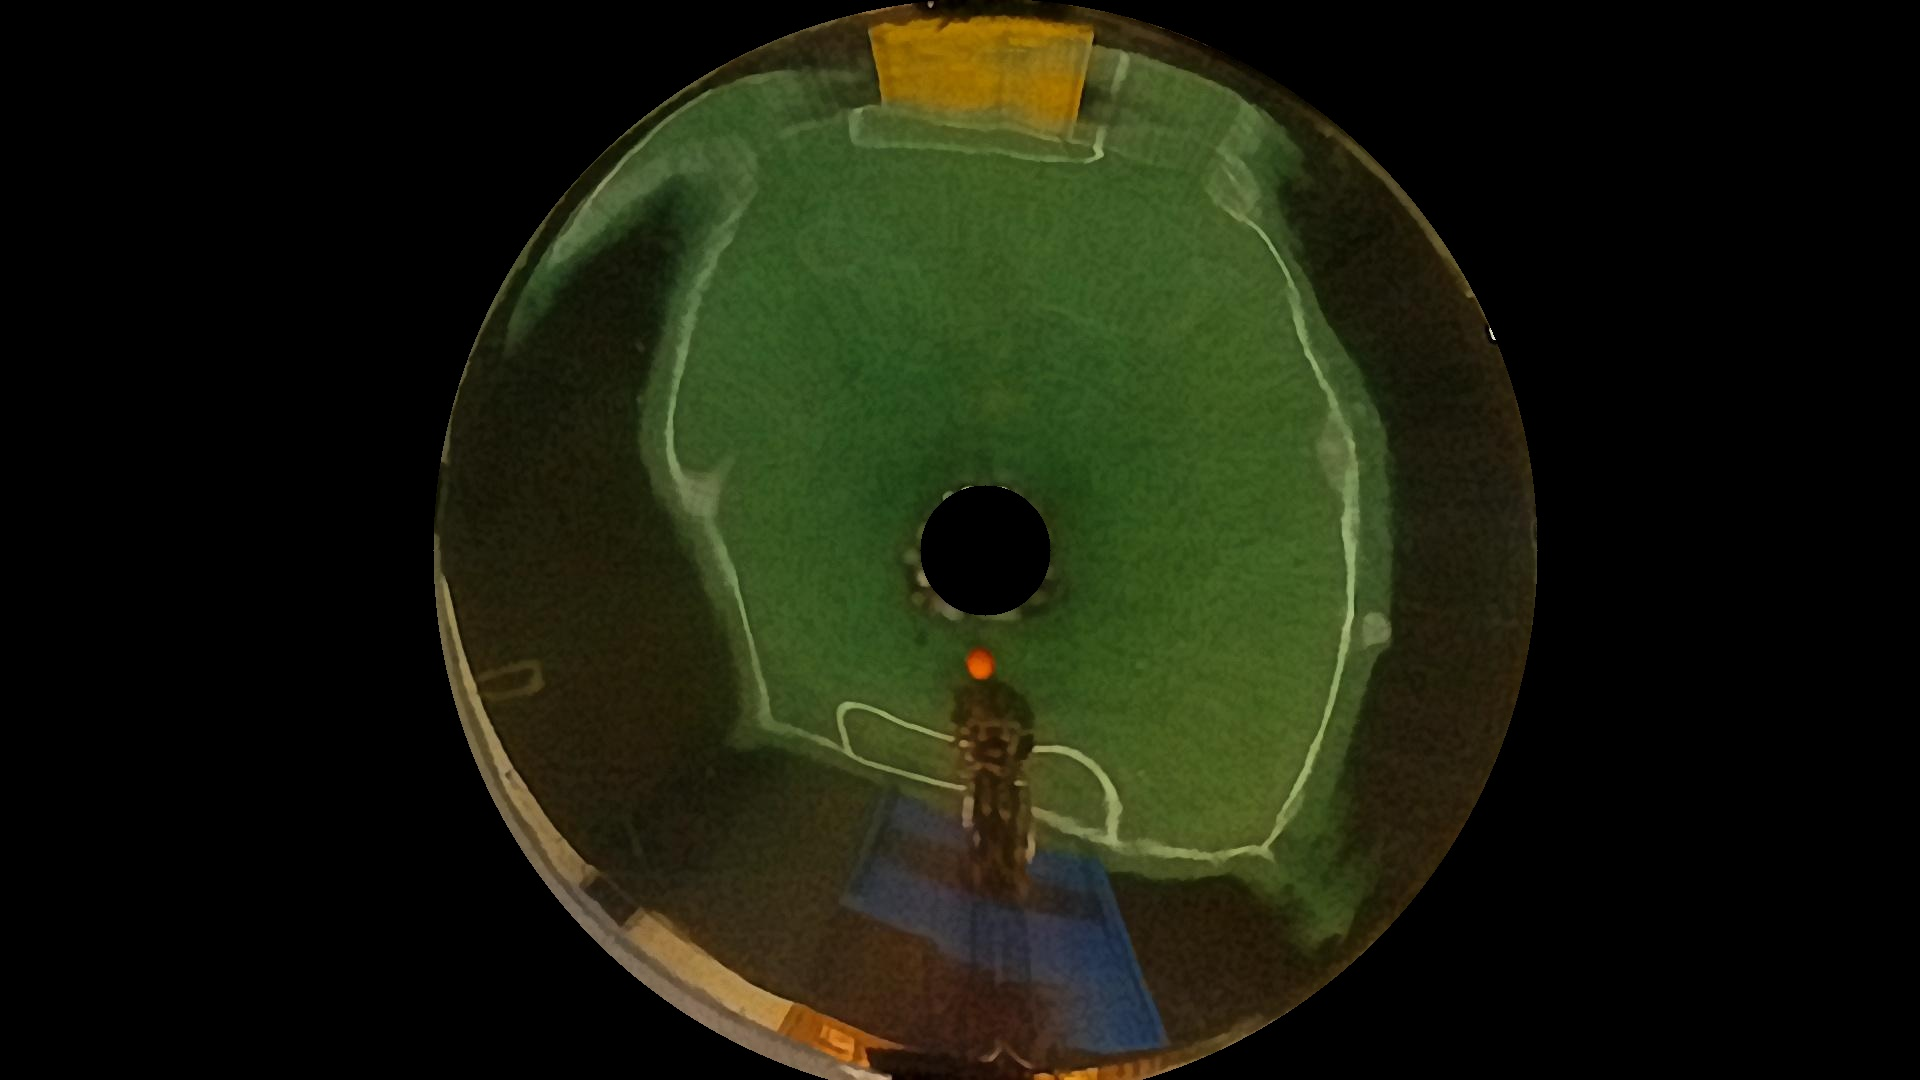ball: (963, 630, 998, 684)
blue-goal: (840, 837, 1164, 1069)
robots: (945, 696, 1064, 899)
yellow-goal: (858, 22, 1098, 148)
